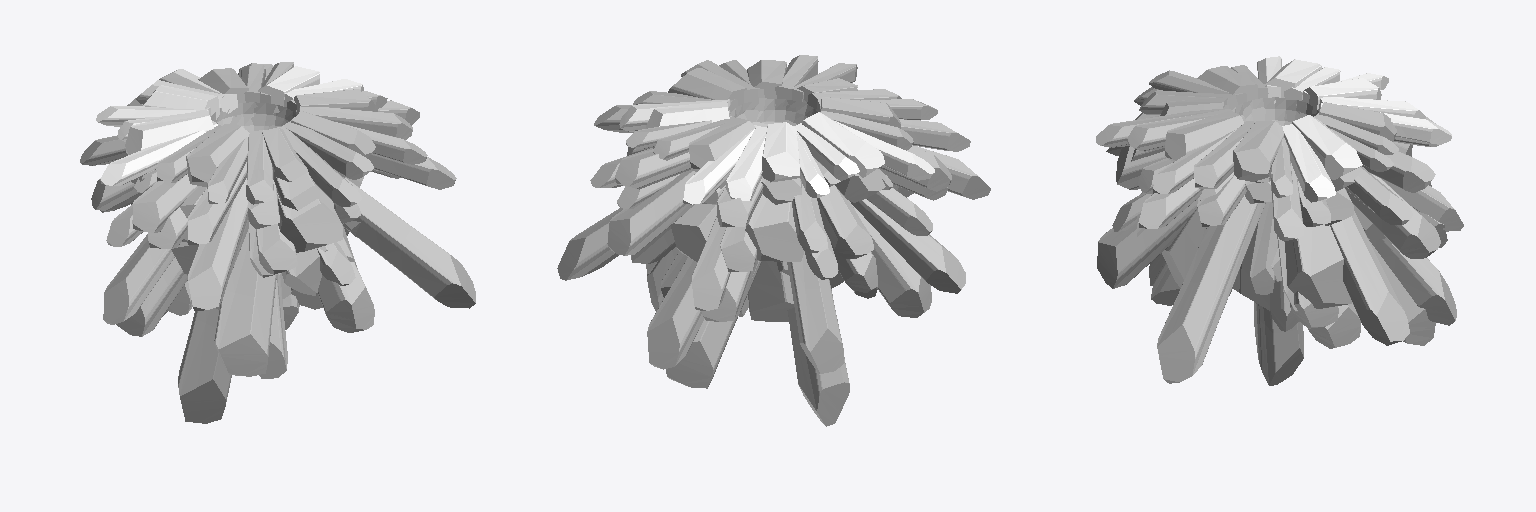
The model's file is Crystal.obj.
3 renders of one model, left to right at view 1: azimuth 30°, elevation 25°; view 2: azimuth 150°, elevation 25°; view 3: azimuth 270°, elevation 25°, orthographic.
Visible parts, largest first — view 1: Sphere; view 2: Sphere; view 3: Sphere.
Part boxes in pixels (x1,y1,x2,y2): Sphere: (80,62,475,423); Sphere: (557,55,990,426); Sphere: (1096,56,1463,385).
Size of the model in its own units: 1364 by 1162 by 1258.